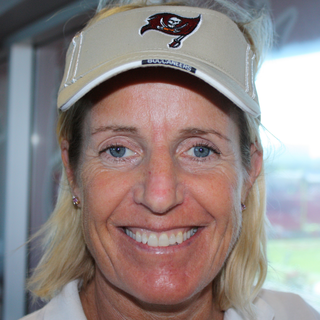eye: (176, 139, 224, 164), (93, 140, 139, 164)
